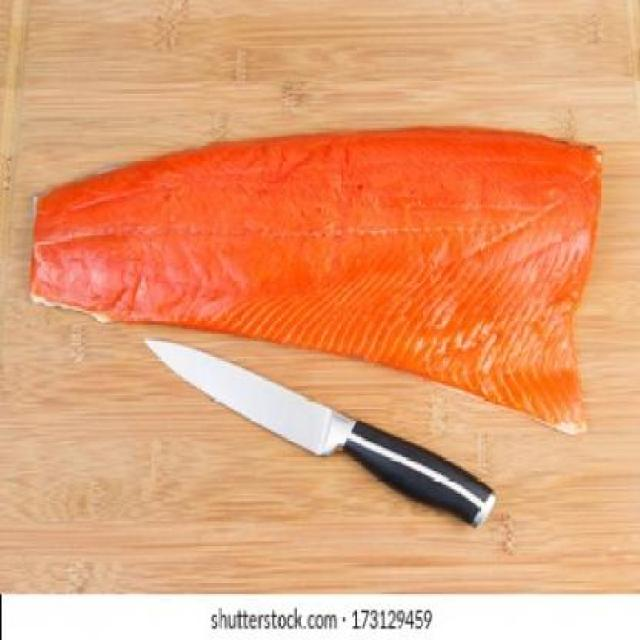salmon: (17, 122, 610, 453)
